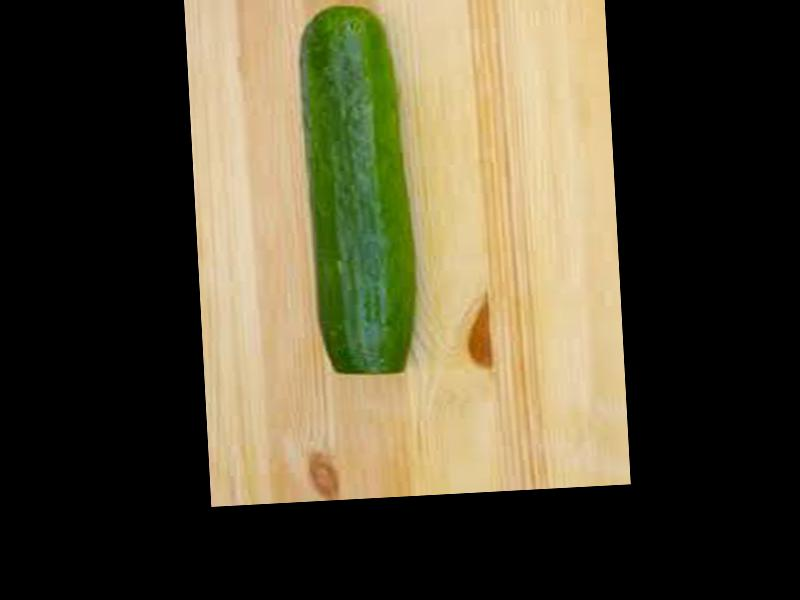Cucumber: (297, 3, 417, 375)
